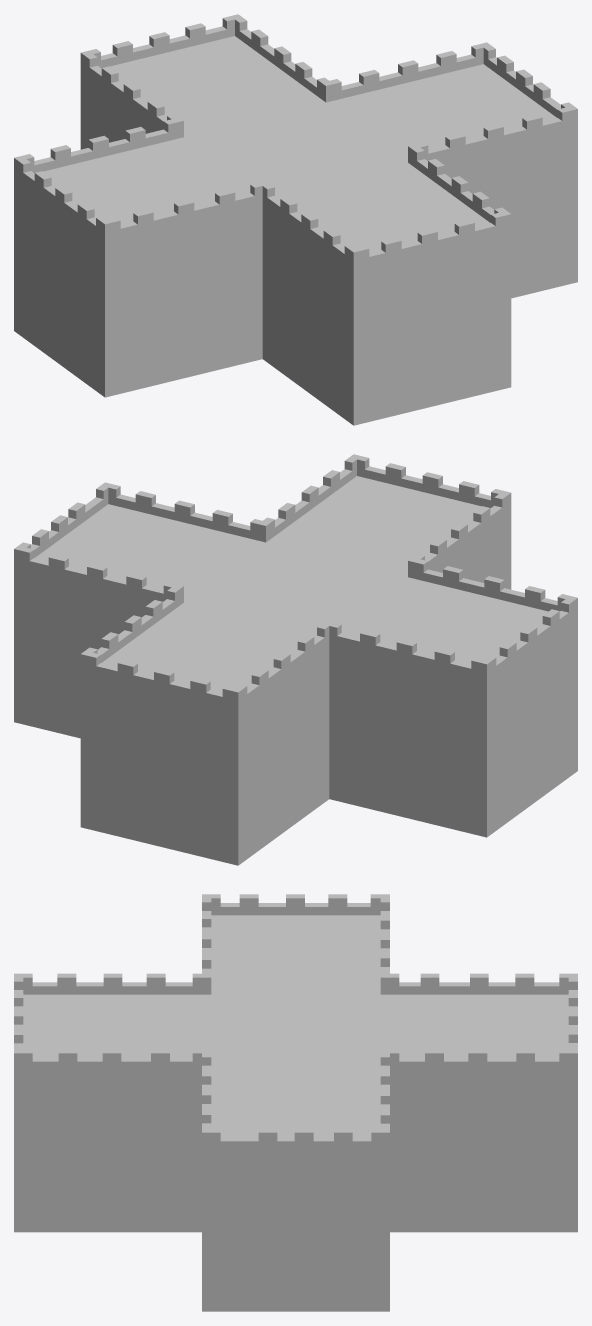
3 renders of one model, top to bottom at view 1: azimuth 30°, elevation 25°; view 2: azimuth 150°, elevation 25°; view 3: azimuth 270°, elevation 25°, orthographic. The views are drawn at different scales.
Visible parts, largest first — view 1: Flattened; view 2: Flattened; view 3: Flattened.
Part boxes in pixels (x1,y1,x2,y2): Flattened: (14, 14, 577, 425); Flattened: (14, 454, 577, 865); Flattened: (14, 894, 577, 1311).
Size of the model in its own units: 3 by 1.05 by 3.
1 material, 1 textured.
